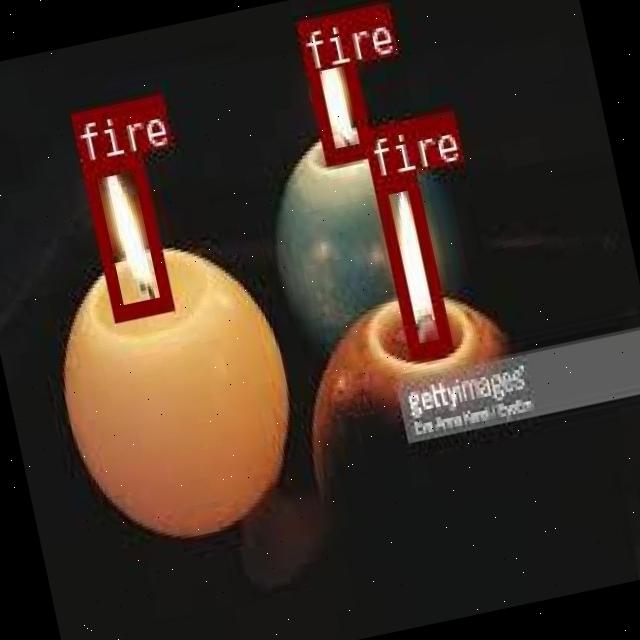fire: (79, 150, 171, 320), (369, 168, 448, 356), (294, 10, 370, 163)
